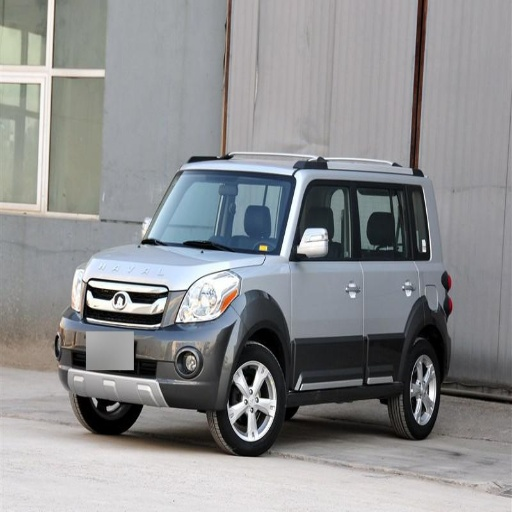front_bumper: (57, 272, 244, 411)
front_glass: (142, 174, 295, 251)
front_left_door: (289, 181, 364, 385)
